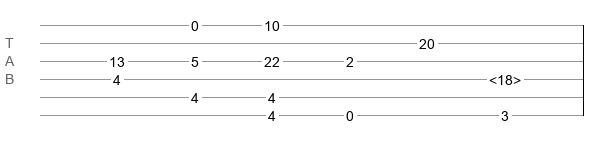0: (191, 18, 199, 28), (346, 108, 354, 118)
10: (264, 18, 280, 28)
13: (109, 54, 125, 64)
2: (346, 54, 354, 64)
20: (419, 36, 435, 46)
22: (264, 54, 280, 64)
3: (501, 108, 509, 118)
4: (113, 72, 121, 82), (191, 90, 199, 100), (268, 90, 276, 100), (268, 108, 276, 118)
5: (191, 54, 199, 64)
harmonic: (489, 72, 521, 82)
